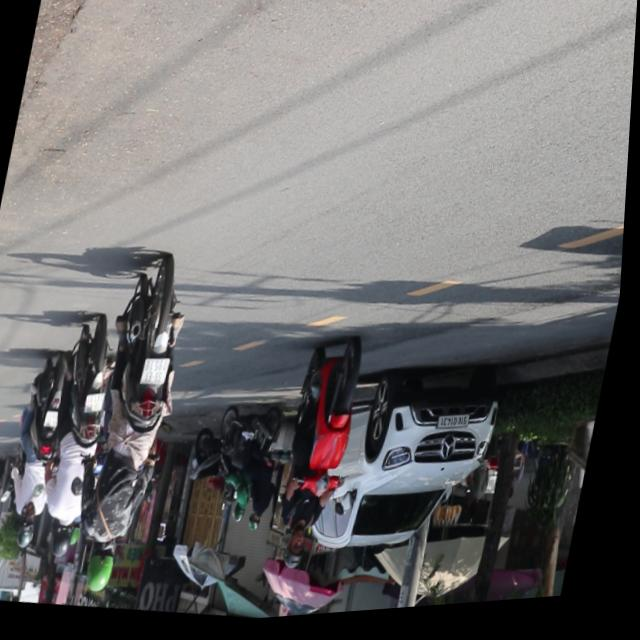helmet: (90, 542, 127, 599), (289, 529, 319, 578), (57, 523, 82, 563), (22, 516, 44, 552)
licenseplate: (69, 255, 208, 607), (269, 336, 377, 584), (35, 317, 129, 567), (3, 353, 81, 555)
nohelmet: (146, 360, 174, 390), (89, 395, 110, 417), (50, 412, 65, 430)
